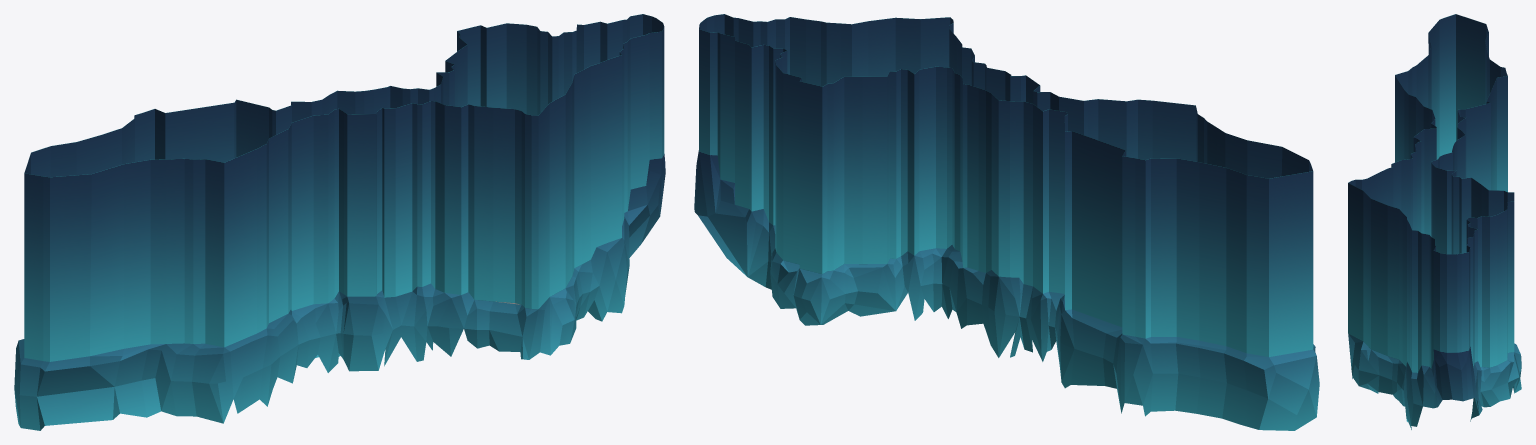
Rendered from MOD_Level1_Versie7.fbx.
The picture shows the model from 3 angles, left to right: view 1: azimuth 30°, elevation 25°; view 2: azimuth 150°, elevation 25°; view 3: azimuth 270°, elevation 25°; orthographic projection. The views are drawn at different scales.
Parts seen in each view (by area): view 1: Boundaries, MOD_Level1; view 2: Boundaries, MOD_Level1; view 3: Boundaries, MOD_Level1.
Boxes of the visible parts, box(x1,y1,x2,y2) form: Boundaries: box(24, 14, 664, 361); MOD_Level1: box(14, 154, 665, 430); Boundaries: box(699, 14, 1313, 356); MOD_Level1: box(694, 150, 1319, 430); Boundaries: box(1348, 14, 1514, 372); MOD_Level1: box(1348, 334, 1521, 429).
Bounding box in the file's own units: 24.83 × 9.89 × 7.5.
